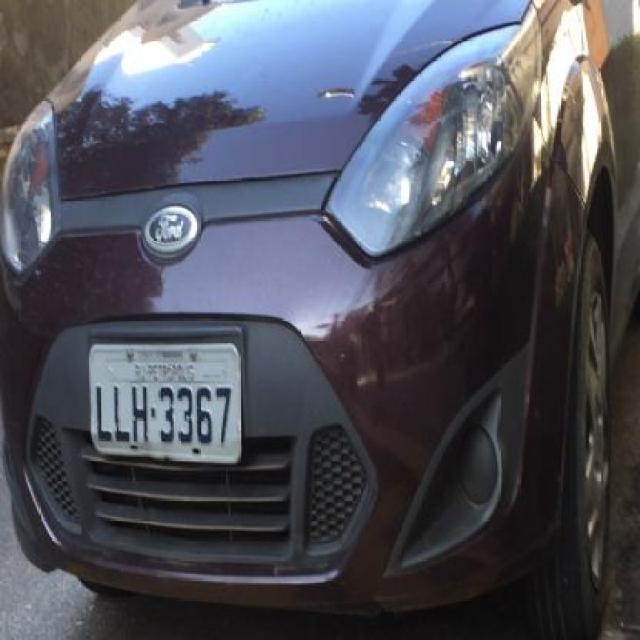old_plate: (84, 338, 248, 469)
